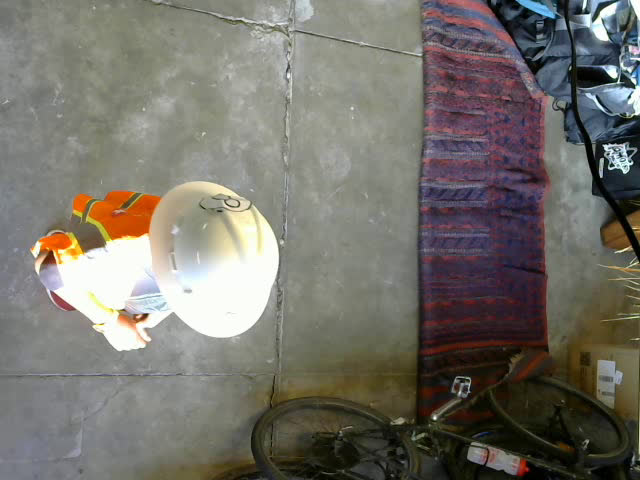eight: (196, 192, 253, 216)
